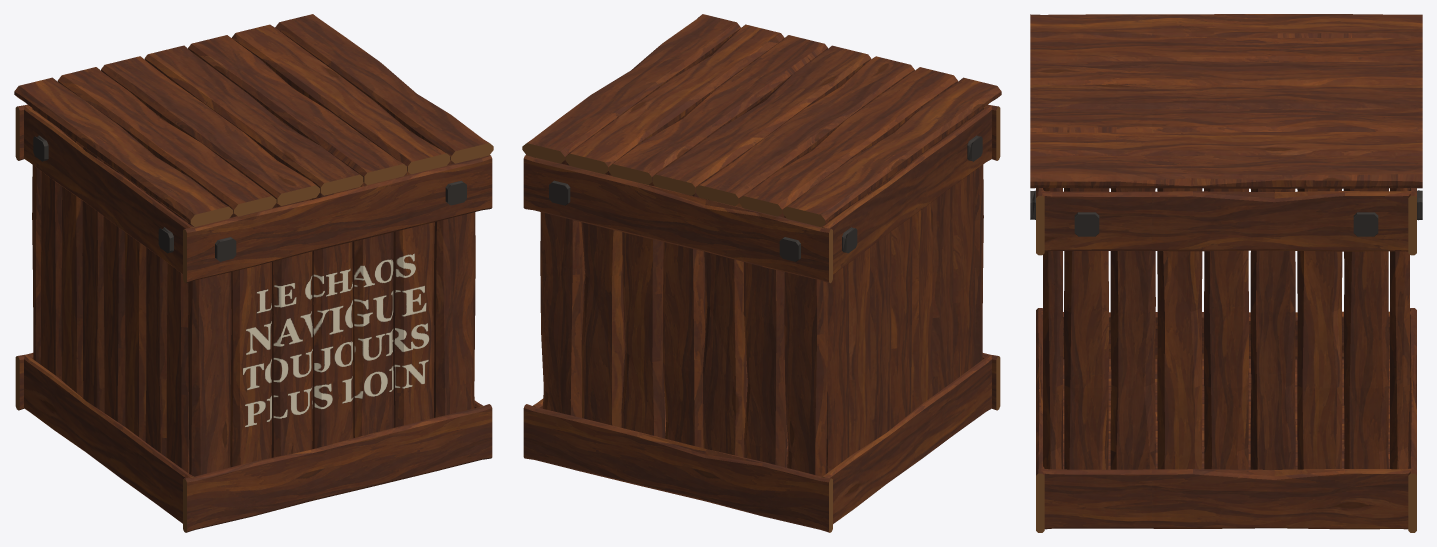
File: supply_crate.glb
The picture shows the model from 3 angles, left to right: view 1: azimuth 30°, elevation 25°; view 2: azimuth 150°, elevation 25°; view 3: azimuth 270°, elevation 25°; orthographic projection. The views are drawn at different scales.
Visible parts, largest first — view 1: Body, Lid; view 2: Body, Lid; view 3: Body, Lid.
Part boxes in pixels (x1=…): Body: x1=15, y1=87, x2=492, y2=532; Lid: x1=14, y1=14, x2=493, y2=226; Body: x1=523, y1=54, x2=1000, y2=532; Lid: x1=522, y1=14, x2=1001, y2=226; Body: x1=1030, y1=188, x2=1422, y2=532; Lid: x1=1030, y1=14, x2=1422, y2=188.
Size of the model in its own units: 0.9 by 0.9 by 0.9.
Materials: 4 (2 with a texture image).
